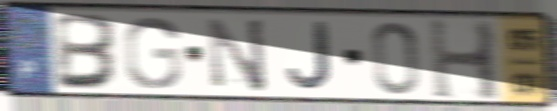0: (369, 19, 422, 97)
B: (54, 10, 122, 91)
G: (121, 15, 184, 91)
H: (426, 15, 504, 103)
J: (284, 20, 335, 93)
N: (204, 16, 270, 95)
